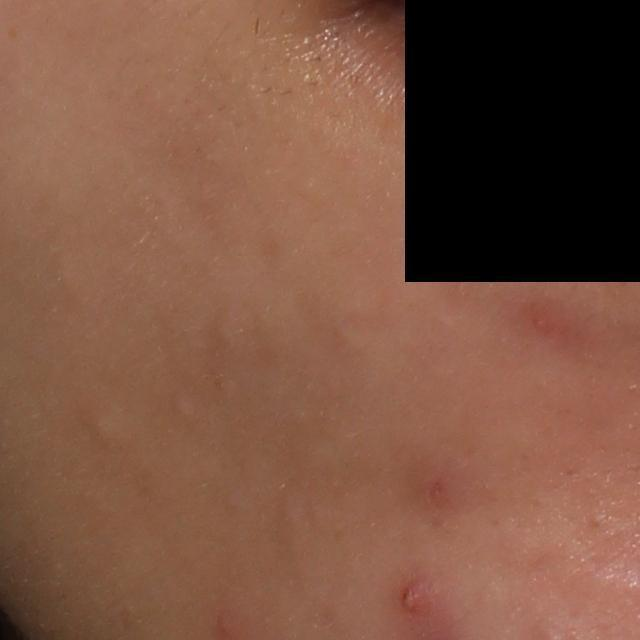comedo: (85, 403, 128, 444), (167, 386, 198, 421)
papule: (388, 569, 449, 629)
